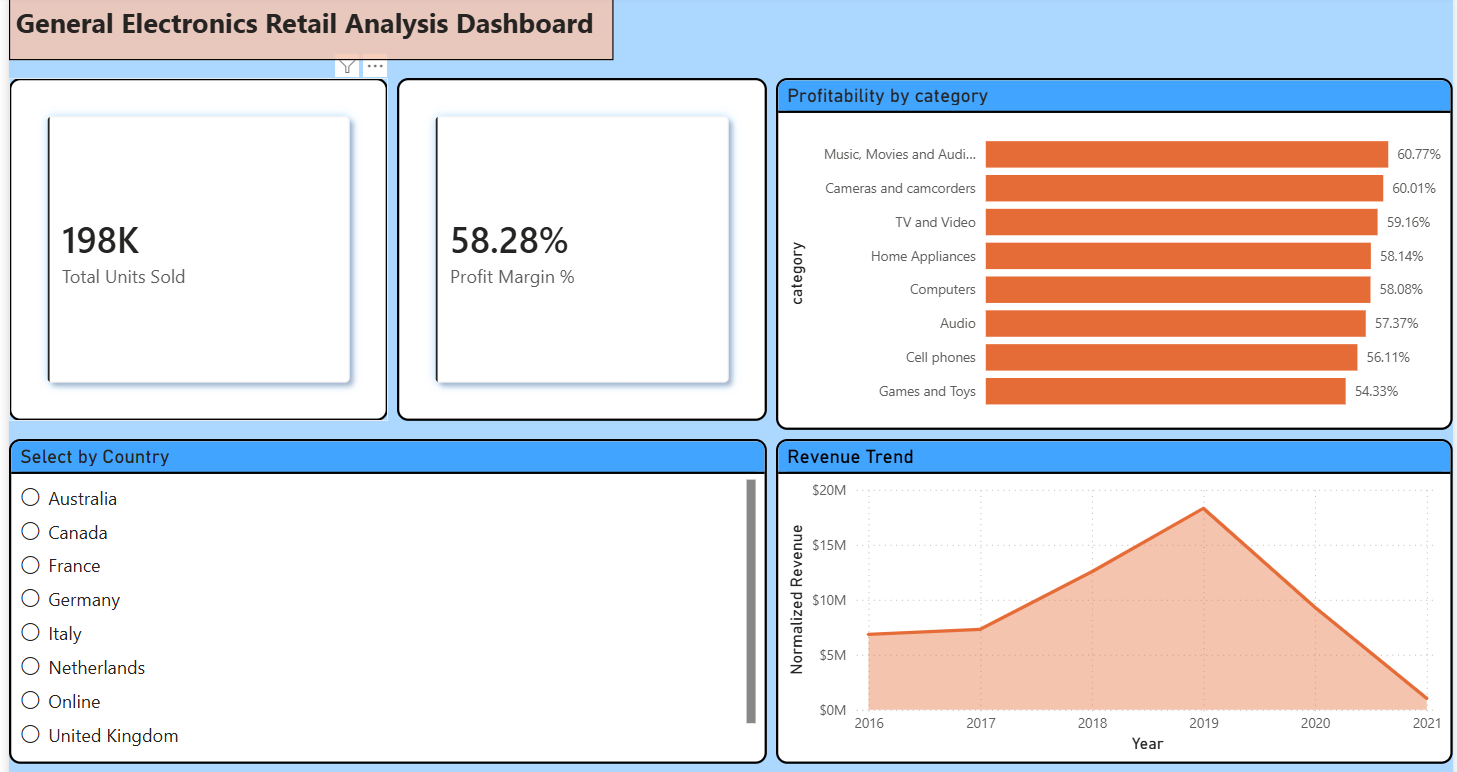

This screenshot's page, from the dashboard's own definition file:
{"tool":"powerbi","page":{"name":"Page 1","canvas":[1280,720],"ordinal":0},"visuals":[{"type":"cardVisual","fields":{"Data":["public sales.Profit Margin %"]},"box":[344,72,328,304],"z":0},{"type":"cardVisual","fields":{"Data":["Sum(public sales.quantity)"]},"box":[0,72,336,304],"z":1000},{"type":"lineChart","title":"Revenue Trend","fields":{"Category":["public sales.order_date.Variation.Date Hierarchy.Year","public sales.order_date.Variation.Date Hierarchy.Quarter","public sales.order_date.Variation.Date Hierarchy.Month","public sales.order_date.Variation.Date Hierarchy.Day"],"Y":["public sales.Normalized Revenue"]},"box":[680,392,600,288],"z":2000},{"type":"clusteredBarChart","title":"Profitability by category","fields":{"Category":["public products.category"],"Y":["public sales.Profit Margin %"]},"box":[680,72,600,312],"z":3000},{"type":"listSlicer","title":"Select by Country","fields":{"Values":["public stores.country"]},"box":[0,392,672,288],"z":4000},{"type":"textbox","box":[0,0,536,56],"z":5000}]}

Visuals, with their boxes in screenshot pixels (x1, y1, x2, y2):
cardVisual - public sales.Profit Margin %: bbox=(390, 51, 762, 396)
cardVisual - Sum(public sales.quantity): bbox=(0, 51, 381, 396)
"Revenue Trend" lineChart: bbox=(771, 414, 1451, 741)
"Profitability by category" clusteredBarChart: bbox=(771, 51, 1451, 405)
"Select by Country" listSlicer: bbox=(0, 414, 762, 741)
textbox: bbox=(0, 0, 608, 33)
